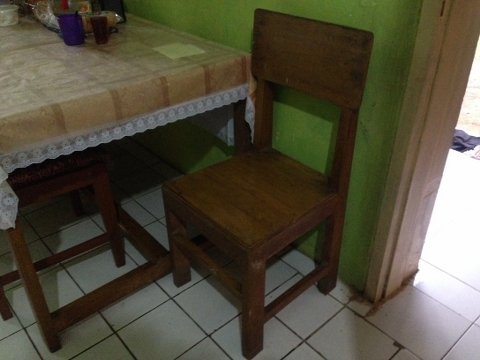kursi: (162, 7, 374, 360)
